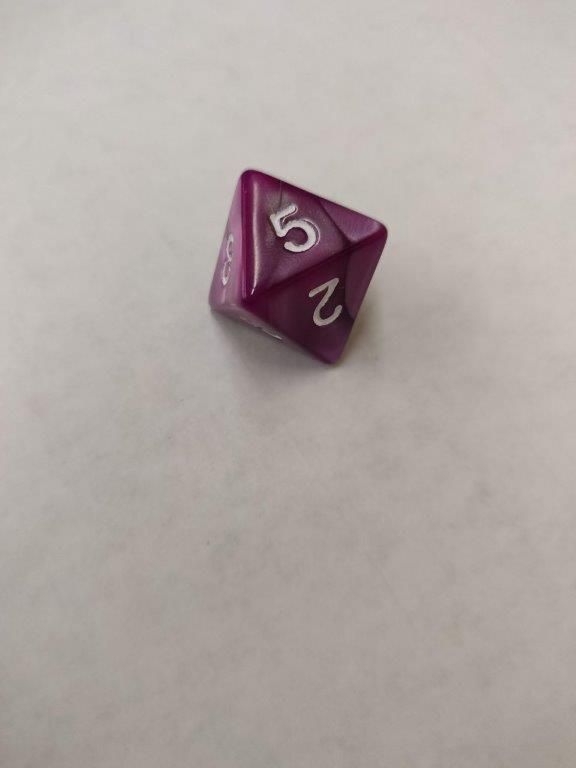d8-5: (208, 165, 389, 367)
